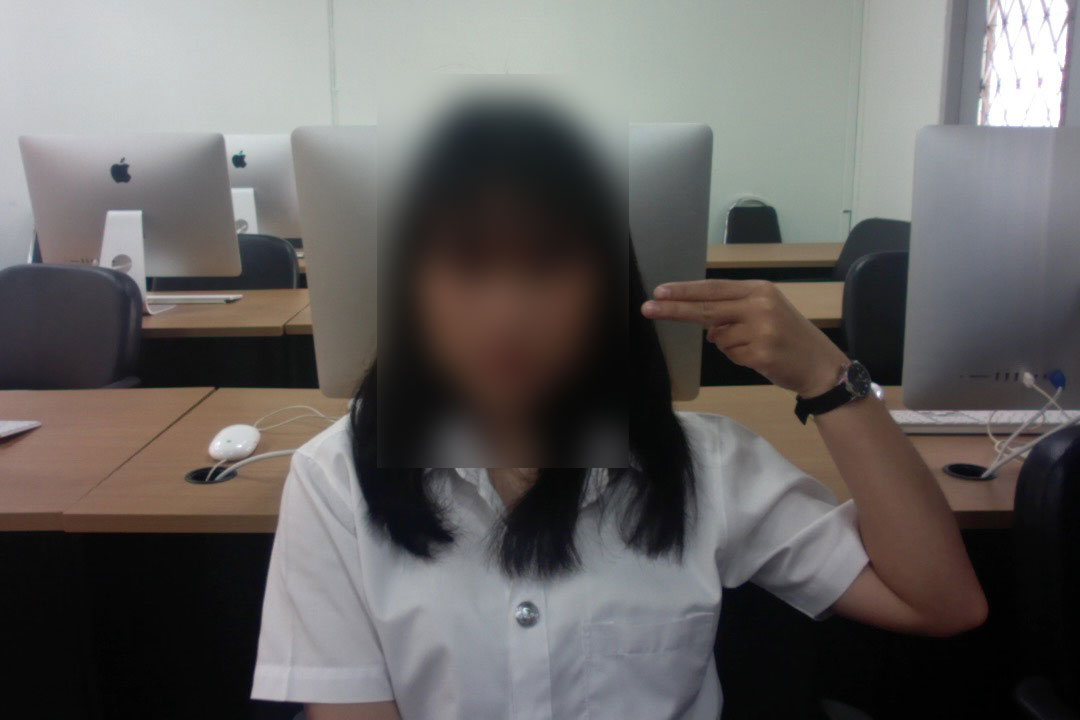hor: (634, 275, 855, 392)
